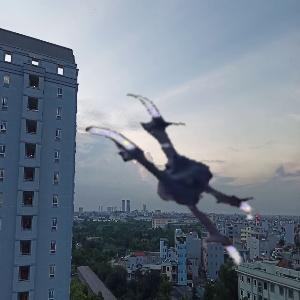drone: (65, 91, 266, 292)
